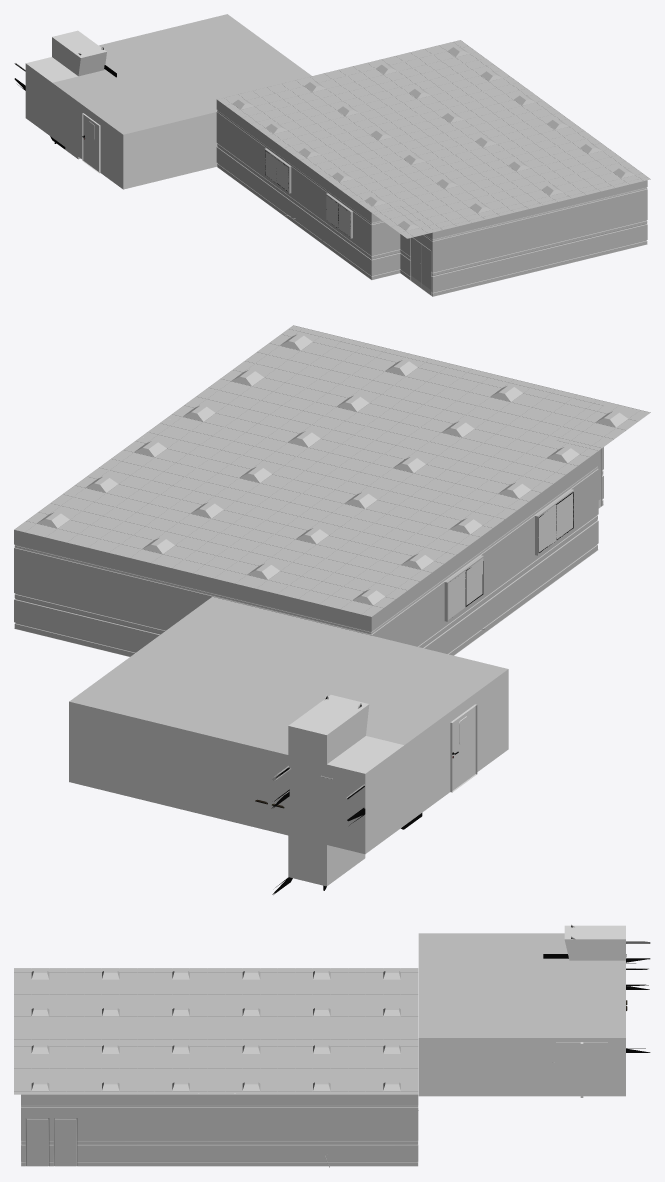
Rendered from academy final 1.fbx.
3 renders of one model, top to bottom at view 1: azimuth 30°, elevation 25°; view 2: azimuth 150°, elevation 25°; view 3: azimuth 270°, elevation 25°, orthographic. The views are drawn at different scales.
Visible parts, largest first — view 1: Outer, Cube, Cube.003; view 2: Outer, Cube, Cube.003; view 3: Outer, Cube, Cube.004, a7be5292-e5e6-4c67-a1bd-c7f6fef46b41.
Boxes of the visible parts, x1,y1,x2,y2 form: Outer: (216, 40, 650, 296); Cube: (25, 14, 311, 189); Cube.003: (83, 114, 98, 171); Outer: (14, 325, 650, 656); Cube: (69, 597, 508, 886); Cube.003: (452, 706, 475, 790); Outer: (14, 968, 418, 1166); Cube: (418, 925, 625, 1096); Cube.004: (552, 1042, 607, 1097); a7be5292-e5e6-4c67-a1bd-c7f6fef46b41: (543, 924, 650, 1052).
Bounding box in the file's own units: 2476 × 730 × 3622.
